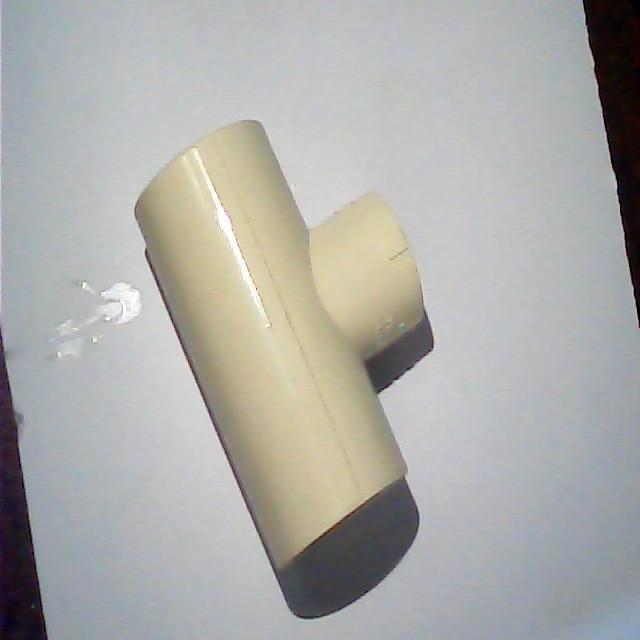T Joint: (133, 120, 435, 622)
